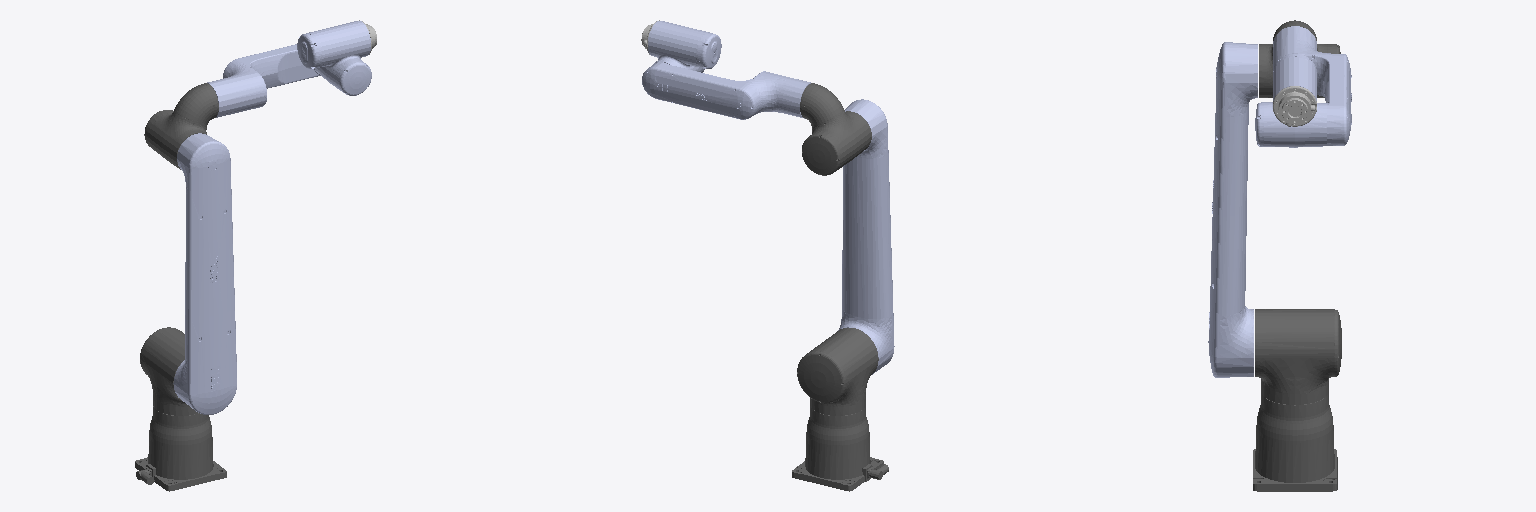
The robot description file, URDF, robot "crb15000_12":
<?xml version="1.0" encoding="utf-8"?>
<robot name="crb15000_12">
  <!-- link list -->
  <link name="world"/>
  <link name="base_link">
    <inertial>
      <origin xyz="-0.00116562206542855 -0.000111277508793338 0.0985692350784507" rpy="0 0 0" />
      <mass value="5.51869877389985" />
      <inertia ixx="0.0324615833445066" ixy="-7.21843529199823E-05" ixz="-0.00049605761992784" iyy="0.0332151681097111" iyz="-4.74301853618724E-05" izz="0.0243928042442012" />
    </inertial>
    <visual>
      <origin xyz="0 0 0" rpy="0 0 0" />
      <geometry>
        <mesh filename="package://abb_crb15000_12_support/meshes/base_link.stl" />
      </geometry>
      <material name="">
        <color rgba="0.43921568627451 0.43921568627451 0.43921568627451 1" />
      </material>
    </visual>
    <collision>
      <origin xyz="0 0 0" rpy="0 0 0" />
      <geometry>
        <mesh filename="package://abb_crb15000_12_support/meshes/base_link.stl" />
      </geometry>
    </collision>
  </link>
  <link name="link_1">
    <inertial>
      <origin xyz="1.12552908694189E-06 0.00441107880610215 0.103433496656359" rpy="0 0 0" />
      <mass value="5.22616269057991" />
      <inertia ixx="0.0301815576877073" ixy="-1.01467979197282E-07" ixz="7.31155371710168E-09" iyy="0.0234941376281176" iyz="-0.000472006519655334" izz="0.0245017383183003" />
    </inertial>
    <visual>
      <origin xyz="0 0 0" rpy="0 0 0" />
      <geometry>
        <mesh filename="package://abb_crb15000_12_support/meshes/link_1.stl" />
      </geometry>
      <material name="">
        <color rgba="0.43921568627451 0.43921568627451 0.43921568627451 1" />
      </material>
    </visual>
    <collision>
      <origin xyz="0 0 0" rpy="0 0 0" />
      <geometry>
        <mesh filename="package://abb_crb15000_12_support/meshes/link_1.stl" />
      </geometry>
    </collision>
  </link>
  <link name="link_2">
    <inertial>
      <origin xyz="0.000297138605376617 0.0553221867130278 -0.319948382793626" rpy="0 0 0" />
      <mass value="9.03529467597423" />
      <inertia ixx="0.581430411308972" ixy="7.37098983457675E-07" ixz="-7.96522766065981E-07" iyy="0.58908172033743" iyz="-0.00863291232834676" izz="0.0190264738204784" />
    </inertial>
    <visual>
      <origin xyz="0 0 0" rpy="0 0 0" />
      <geometry>
        <mesh filename="package://abb_crb15000_12_support/meshes/link_2.stl" />
      </geometry>
      <material name="">
        <color rgba="0.792156862745098 0.819607843137255 0.933333333333333 1" />
      </material>
    </visual>
    <collision>
      <origin xyz="0 0 0" rpy="0 0 0" />
      <geometry>
        <mesh filename="package://abb_crb15000_12_support/meshes/link_2.stl" />
      </geometry>
    </collision>
  </link>
  <link name="link_3">
    <inertial>
      <origin xyz="0.0129003697081897 0.0927373061006009 0.0249087702176316" rpy="0 0 0" />
      <mass value="3.36066340869408" />
      <inertia ixx="0.0172968348766431" ixy="0.00033538946987855" ixz="-0.00317946317265916" iyy="0.0139645541726883" iyz="0.000647735813173277" izz="0.0130196197392761" />
    </inertial>
    <visual>
      <origin xyz="0 0 0" rpy="0 0 0" />
      <geometry>
        <mesh filename="package://abb_crb15000_12_support/meshes/link_3.stl" />
      </geometry>
      <material name="">
        <color rgba="0.43921568627451 0.43921568627451 0.43921568627451 1" />
      </material>
    </visual>
    <collision>
      <origin xyz="0 0 0" rpy="0 0 0" />
      <geometry>
        <mesh filename="package://abb_crb15000_12_support/meshes/link_3.stl" />
      </geometry>
    </collision>
  </link>
  <link name="link_4">
    <inertial>
      <origin xyz="0.198391504924143 0.0567538605135347 5.06855882154156E-07" rpy="0 0 0" />
      <mass value="3.52903628114988" />
      <inertia ixx="0.0124075660009084" ixy="-0.017746457188857" ixz="1.37269734535149E-07" iyy="0.0633978106514936" iyz="-5.8152105288593E-08" izz="0.0707201465328259" />
    </inertial>
    <visual>
      <origin xyz="0 0 0" rpy="0 0 0" />
      <geometry>
        <mesh filename="package://abb_crb15000_12_support/meshes/link_4.stl" />
      </geometry>
      <material name="">
        <color rgba="0.792156862745098 0.819607843137255 0.933333333333333 1" />
      </material>
    </visual>
    <collision>
      <origin xyz="0 0 0" rpy="0 0 0" />
      <geometry>
        <mesh filename="package://abb_crb15000_12_support/meshes/link_4.stl" />
      </geometry>
    </collision>
  </link>
  <link name="link_5">
    <inertial>
      <origin xyz="-0.0147146933924303 -0.078566614659412 0.042754559950654" rpy="0 0 0" />
      <mass value="3.01112786957414" />
      <inertia ixx="0.0114602173564677" ixy="0.000180181486510333" ixz="0.00165193074511465" iyy="0.013561921709145" iyz="-0.000525534401413241" izz="0.0108485917704238" />
    </inertial>
    <visual>
      <origin xyz="0 0 0" rpy="0 0 0" />
      <geometry>
        <mesh filename="package://abb_crb15000_12_support/meshes/link_5.stl" />
      </geometry>
      <material name="">
        <color rgba="0.792156862745098 0.819607843137255 0.933333333333333 1" />
      </material>
    </visual>
    <collision>
      <origin xyz="0 0 0" rpy="0 0 0" />
      <geometry>
        <mesh filename="package://abb_crb15000_12_support/meshes/link_5.stl" />
      </geometry>
    </collision>
  </link>
  <link name="link_6">
    <inertial>
      <origin xyz="0.0127506579780546 0.000239800430278234 -0.000341972933264323" rpy="0 0 0" />
      <mass value="0.146501163257402" />
      <inertia ixx="0.000128977855144664" ixy="-8.75963574588913E-08" ixz="1.18804128471433E-07" iyy="7.61119251312711E-05" iyz="-6.49860360777156E-07" izz="7.65024716993432E-05" />
    </inertial>
    <visual>
      <origin xyz="0 0 0" rpy="0 0 0" />
      <geometry>
        <mesh filename="package://abb_crb15000_12_support/meshes/link_6.stl" />
      </geometry>
      <material name="">
        <color rgba="0.749019607843137 0.749019607843137 0.749019607843137 1" />
      </material>
    </visual>
    <collision>
      <origin xyz="0 0 0" rpy="0 0 0" />
      <geometry>
        <mesh filename="package://abb_crb15000_12_support/meshes/link_6.stl" />
      </geometry>
    </collision>
  </link>
  <!-- end of link list -->
  <!-- joint list -->  
  <joint name="to_world" type="fixed">
    <parent link="world"/>
    <child link="base_link"/>
    <origin rpy="0 0 0" xyz="0 0 0"/>
  </joint>
  <joint name="joint_1" type="revolute">
    <origin xyz="0 0 0.214" rpy="0 0 0" />
    <parent link="base_link" />
    <child link="link_1" />
    <axis xyz="0 0 1" />
    <limit lower="-4.71238898" upper="4.71238898" effort="1000" velocity="2.094" />
  </joint>
  <joint name="joint_2" type="revolute">
    <origin xyz="-0.00029769 -0.09515 0.124" rpy="3.1416 0 0" />
    <parent link="link_1" />
    <child link="link_2" />
    <axis xyz="0 -1 0" />
    <limit lower="-3.141592654" upper="3.141592654" effort="1000" velocity="2.094" />
  </joint>
  <joint name="joint_3" type="revolute">
    <origin xyz="0.000297691378239631 -0.01015 -0.707003682815333" rpy="3.14159265358979 0 0" />
    <parent link="link_2" />
    <child link="link_3" />
    <axis xyz="0 1 0" />
    <limit lower="-3.926990817" upper="1.483529864" effort="1000" velocity="2.182" />
  </joint>
  <joint name="joint_4" type="revolute">
    <origin xyz="0.097 0.0849999999999675 0.11" rpy="0 0 0" />
    <parent link="link_3" />
    <child link="link_4" />
    <axis xyz="1 0 0" />
    <limit lower="-3.141592654" upper="3.141592654" effort="1000" velocity="3.491" />
  </joint>
  <joint name="joint_5" type="revolute">
    <origin xyz="0.437 0.0745000000000325 0" rpy="0 0 0" />
    <parent link="link_4" />
    <child link="link_5" />
    <axis xyz="0 1 0" />
    <limit lower="-3.141592654" upper="3.141592654" effort="1000" velocity="3.491" />
  </joint>
  <joint name="joint_6" type="revolute">
    <origin xyz="0.0683999999999998 -0.0745000000000001 0.0799999999999996" rpy="0 0 0" />
    <parent link="link_5" />
    <child link="link_6" />
    <axis xyz="1 0 0" />
    <limit lower="-4.71238898" upper="4.71238898" effort="1000" velocity="3.491" />
  </joint>
  <!-- end of joint list -->
  <!-- ROS-Industrial 'base' frame- base_link to ABB World Coordinates transform -->
  <link name="base"/>
  <joint name="base_link-base" type="fixed">
    <origin rpy="0 0 0" xyz="0 0 0"/>
    <parent link="base_link"/>
    <child link="base"/>
  </joint>
  <!-- ROS-Industrial 'flange' frame- attachment point for EEF models -->
  <link name="flange"/>
  <joint name="joint_6-flange" type="fixed">
    <origin rpy="0 0 0" xyz="0.033 0 0"/>
    <parent link="link_6"/>
    <child link="flange"/>
  </joint>
  <!-- ROS-Industrial 'tool0' frame- all-zeros tool frame -->
  <link name="tool0"/>
  <joint name="flange-tool0" type="fixed">
    <origin rpy="0 1.5707963267948966 0" xyz="0 0 0"/>
    <parent link="flange"/>
    <child link="tool0"/>
  </joint>
  <ros2_control name="ABBMultiInterfaceHardware" type="system">
    <hardware>
      <plugin>abb_hardware_interface/ABBSystemHardware</plugin>
      <!-- If false, the robot description required for EGM connection-->
      <!-- will be generated as per joint information listed below. -->
      <!-- If true, the robot description will be generated by retrieving -->
      <!-- information from the ABB controller via RWS. -->
      <param name="configure_via_rws">True</param>
      <param name="rws_port">80</param>
      <param name="rws_ip">None</param>
      <!-- The following parameter is used for non-MultiMove only -->
      <param name="egm_port">6511</param>
      <param name="rapid_file_path">/mounted/main.mod</param>
      <!-- The following parameters are used for the MultiMove example only -->
      <!-- <param name="rob1egm_port">6511</param> -->
      <!-- <param name="extaxegm_port">6512</param> -->
    </hardware>
    <joint name="joint_1">
      <command_interface name="position">
        <param name="min">-4.71238898</param>
        <param name="max">4.71238898</param>
      </command_interface>
      <command_interface name="velocity"/>
      <state_interface name="position">
        <param name="initial_value">0.0</param>
      </state_interface>
      <state_interface name="velocity"/>
    </joint>
    <joint name="joint_2">
      <command_interface name="position">
        <param name="min">-3.141592654</param>
        <param name="max">3.141592654</param>
      </command_interface>
      <command_interface name="velocity"/>
      <state_interface name="position">
        <param name="initial_value">0.0</param>
      </state_interface>
      <state_interface name="velocity"/>
    </joint>
    <joint name="joint_3">
      <command_interface name="position">
        <param name="min">-3.926990817</param>
        <param name="max">1.483529864</param>
      </command_interface>
      <command_interface name="velocity"/>
      <state_interface name="position">
        <param name="initial_value">0.0</param>
      </state_interface>
      <state_interface name="velocity"/>
    </joint>
    <joint name="joint_4">
      <command_interface name="position">
        <param name="min">-3.141592654</param>
        <param name="max">3.141592654</param>
      </command_interface>
      <command_interface name="velocity"/>
      <state_interface name="position">
        <param name="initial_value">0.0</param>
      </state_interface>
      <state_interface name="velocity"/>
    </joint>
    <joint name="joint_5">
      <command_interface name="position">
        <param name="min">-3.141592654</param>
        <param name="max">3.141592654</param>
      </command_interface>
      <command_interface name="velocity"/>
      <state_interface name="position">
        <param name="initial_value">0.0</param>
      </state_interface>
      <state_interface name="velocity"/>
    </joint>
    <joint name="joint_6">
      <command_interface name="position">
        <param name="min">-4.71238898</param>
        <param name="max">4.71238898</param>
      </command_interface>
      <command_interface name="velocity"/>
      <state_interface name="position">
        <param name="initial_value">0.0</param>
      </state_interface>
      <state_interface name="velocity"/>
    </joint>
  </ros2_control>
</robot>

--- Render facts (derived) ---
Views: 3 orthographic renders of the robot side by side, from view 1: azimuth 30°, elevation 25°; view 2: azimuth 150°, elevation 25°; view 3: azimuth 270°, elevation 25°.
Model crb15000_12 with 11 links and 10 joints (6 revolute, 4 fixed), rooted at world, posed all joints at 0.
Links seen in each view (by area): view 1: link_2, base_link, link_4, link_5, link_3, link_1; view 2: link_2, link_4, link_1, base_link, link_3, link_5; view 3: link_2, link_1, base_link, link_4, link_5, link_6, link_3.
Boxes of the visible links, box(x1,y1,x2,y2) form: link_2: box(173, 133, 236, 414); base_link: box(135, 406, 226, 491); link_4: box(207, 44, 320, 117); link_5: box(297, 21, 371, 95); link_3: box(144, 83, 218, 169); link_1: box(140, 327, 197, 415); link_2: box(838, 99, 894, 374); link_4: box(642, 62, 810, 119); link_1: box(797, 328, 878, 415); base_link: box(792, 406, 888, 491); link_3: box(800, 83, 871, 175); link_5: box(648, 21, 721, 72); link_2: box(1208, 42, 1257, 377); link_1: box(1255, 309, 1341, 404); base_link: box(1253, 393, 1337, 491); link_4: box(1273, 26, 1351, 145); link_5: box(1255, 53, 1326, 147); link_6: box(1273, 86, 1316, 126); link_3: box(1259, 20, 1340, 97).
Size in the robot's own frame: 0.7768 by 0.3366 by 1.29 metres.
Meshes: 7 distinct files referenced, 7 mesh visuals loaded (7 binary STL).
